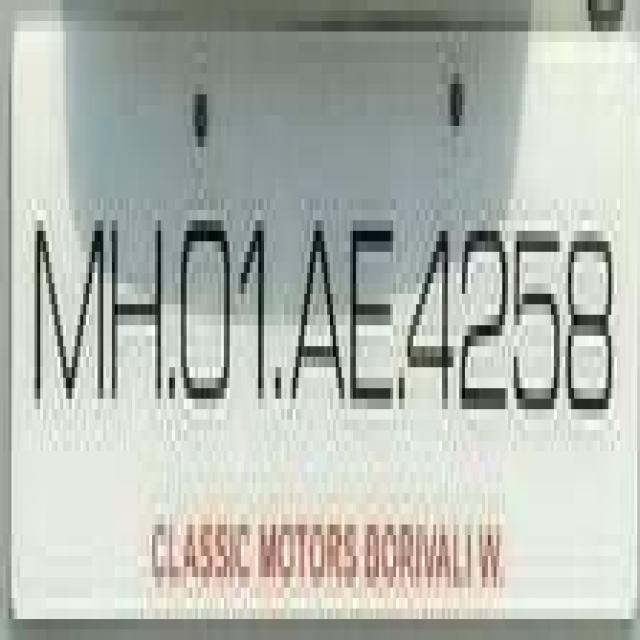license_plate: (3, 0, 603, 598)
